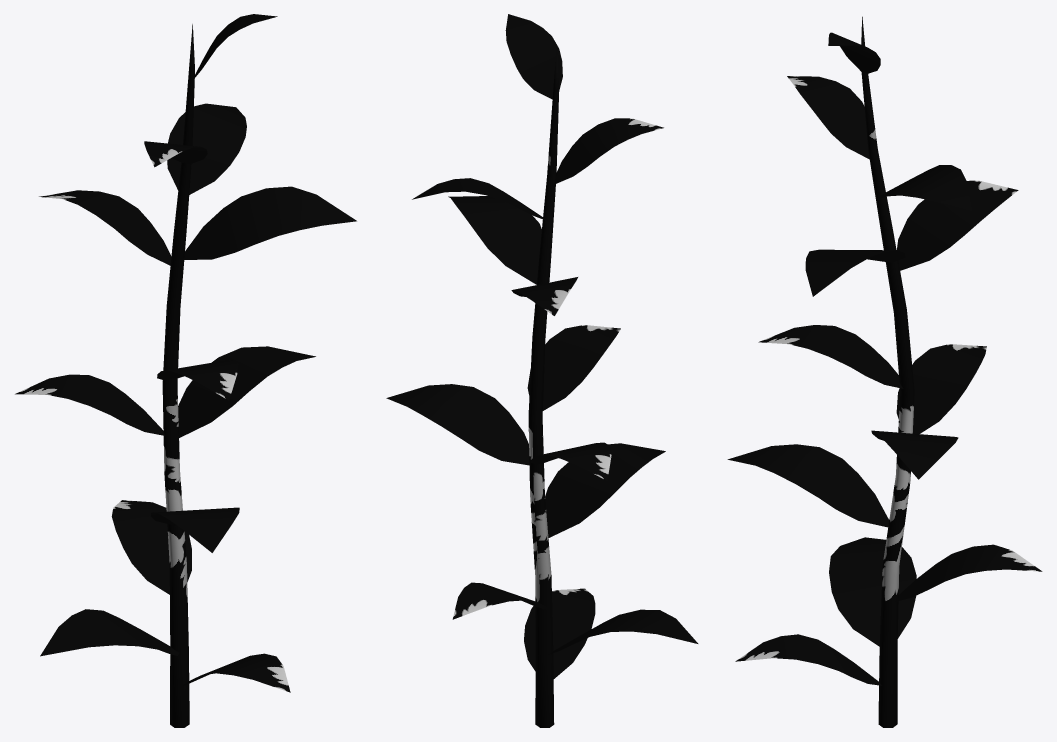
Rendered from SM_Plant_01.glb.
3 renders of one model, left to right at view 1: azimuth 30°, elevation 25°; view 2: azimuth 150°, elevation 25°; view 3: azimuth 270°, elevation 25°, orthographic. The views are drawn at different scales.
Parts seen in each view (by area): view 1: SM_Plant_01; view 2: SM_Plant_01; view 3: SM_Plant_01.
Part boxes in pixels (bbox=[...]): SM_Plant_01: bbox=[15, 14, 356, 727]; SM_Plant_01: bbox=[386, 14, 698, 727]; SM_Plant_01: bbox=[727, 16, 1042, 727].
Bounding box in the file's own units: 0.6398 × 1.43 × 0.5767.
Materials: 1 (1 with a texture image).
